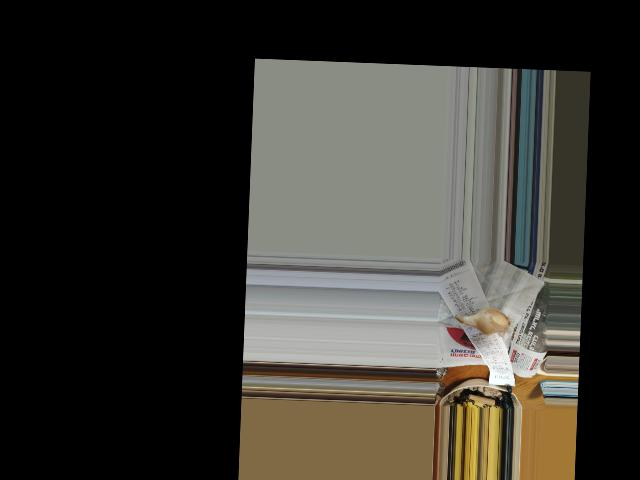onion: (473, 309, 509, 334)
